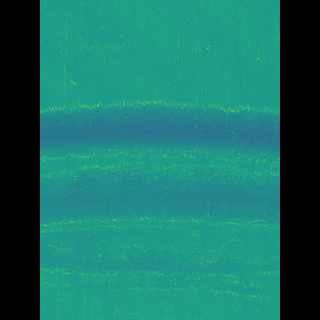Loch: (70, 99, 250, 298)
